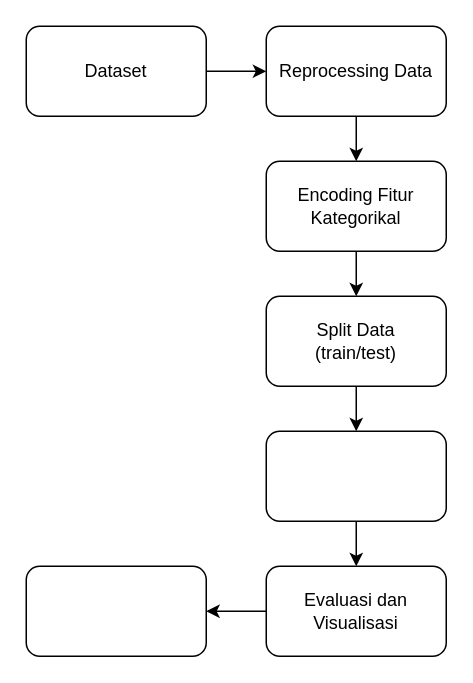
Image size: 473x683. Some labels were removed from this diagram. Each missing label, with the centre of its shape:
Implementasi UI Gradio & Manual Input: point 115,610
Model Traininig (Random Forest, SVM): point 355,475
